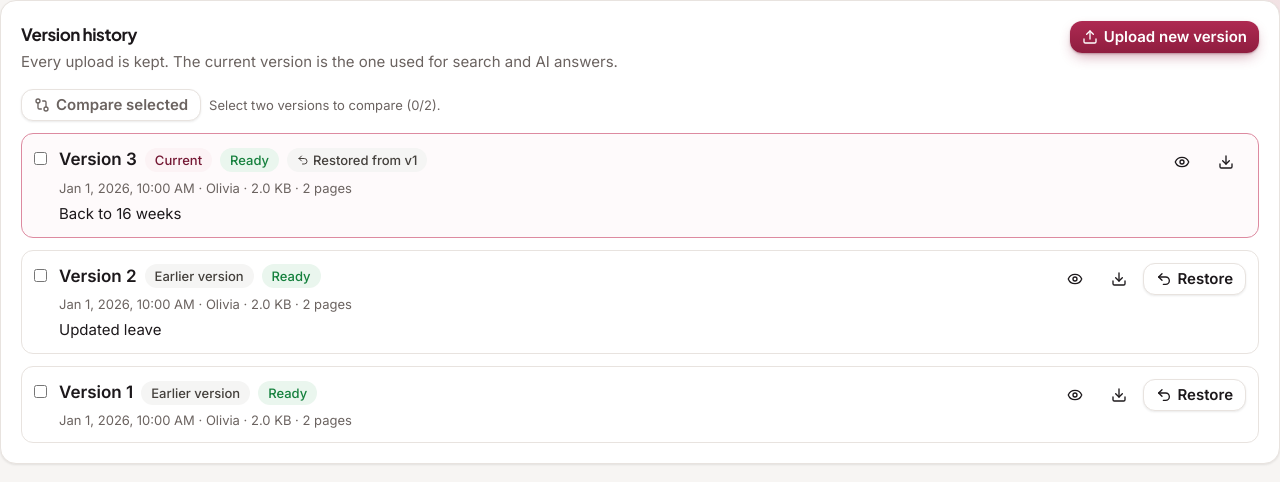
Test case: VersionHistory › explains when versions cannot be compared
Click the checkbox named "Select version 2 for comparison": {"x": 40, "y": 275} [34, 269, 47, 282]
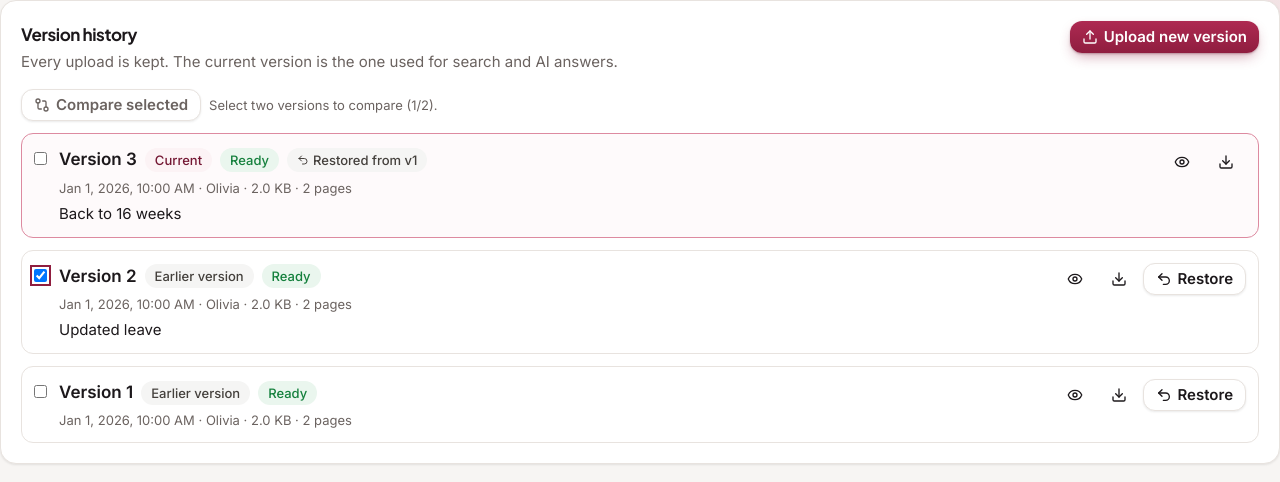
Click the checkbox named "Select version 1 for comparison": {"x": 40, "y": 392} [34, 385, 47, 398]
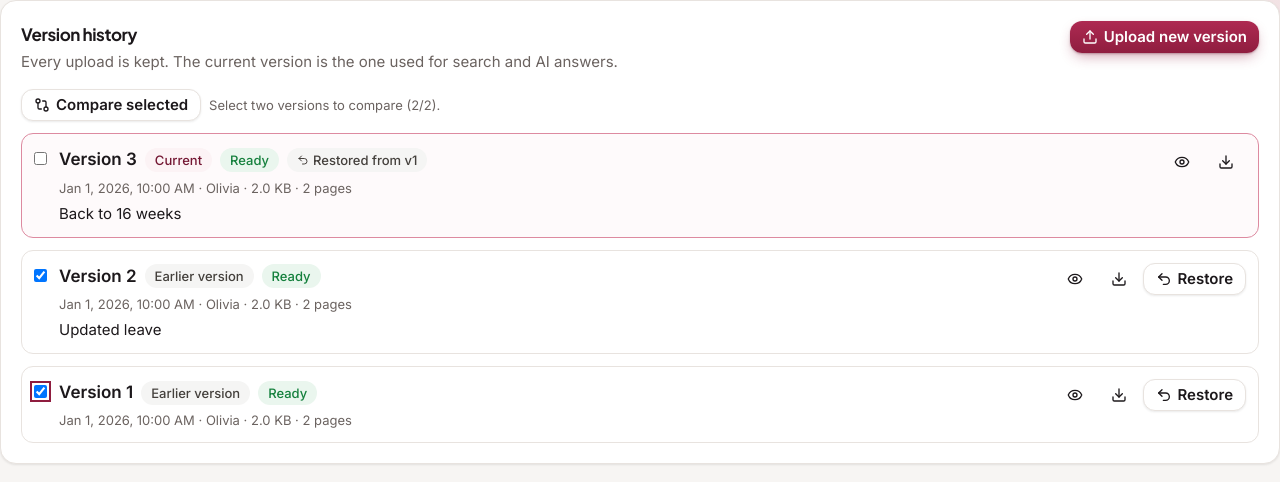
Click the button "Compare selected": {"x": 111, "y": 105} [21, 89, 201, 121]
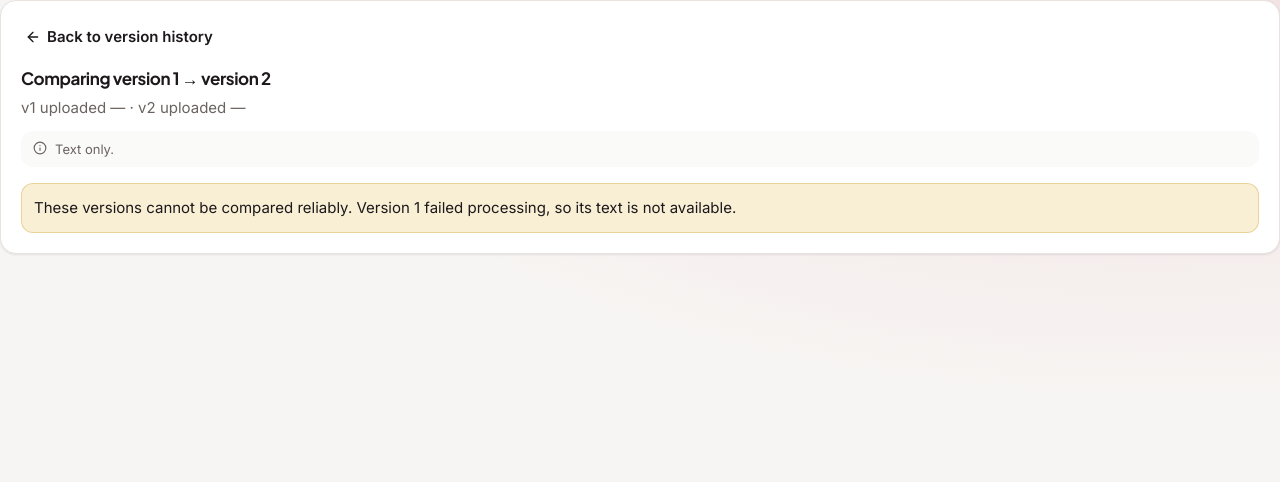
Expected: the message shows "cannot be compared reliably", [34, 198, 356, 217]
Expected: the message shows "failed processing", [356, 198, 736, 217]
